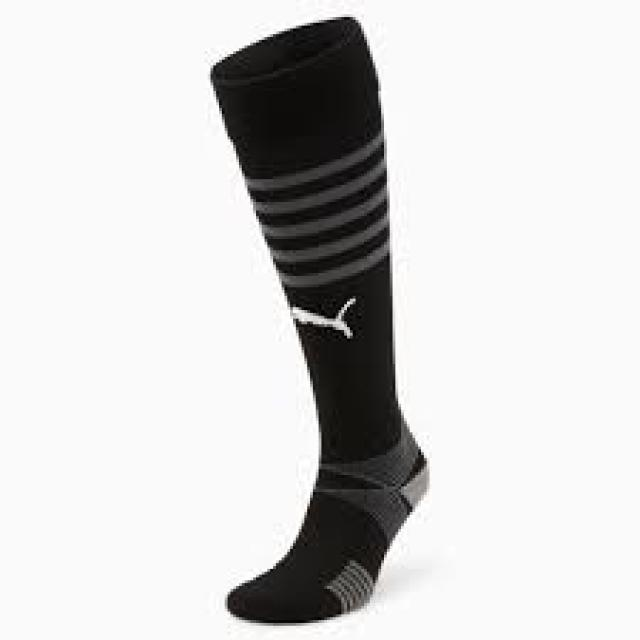sock: (208, 14, 430, 623)
